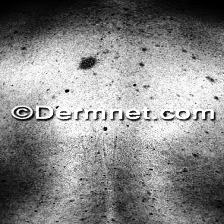Non-Cancerous Skin Condition: (25, 30, 224, 104)
